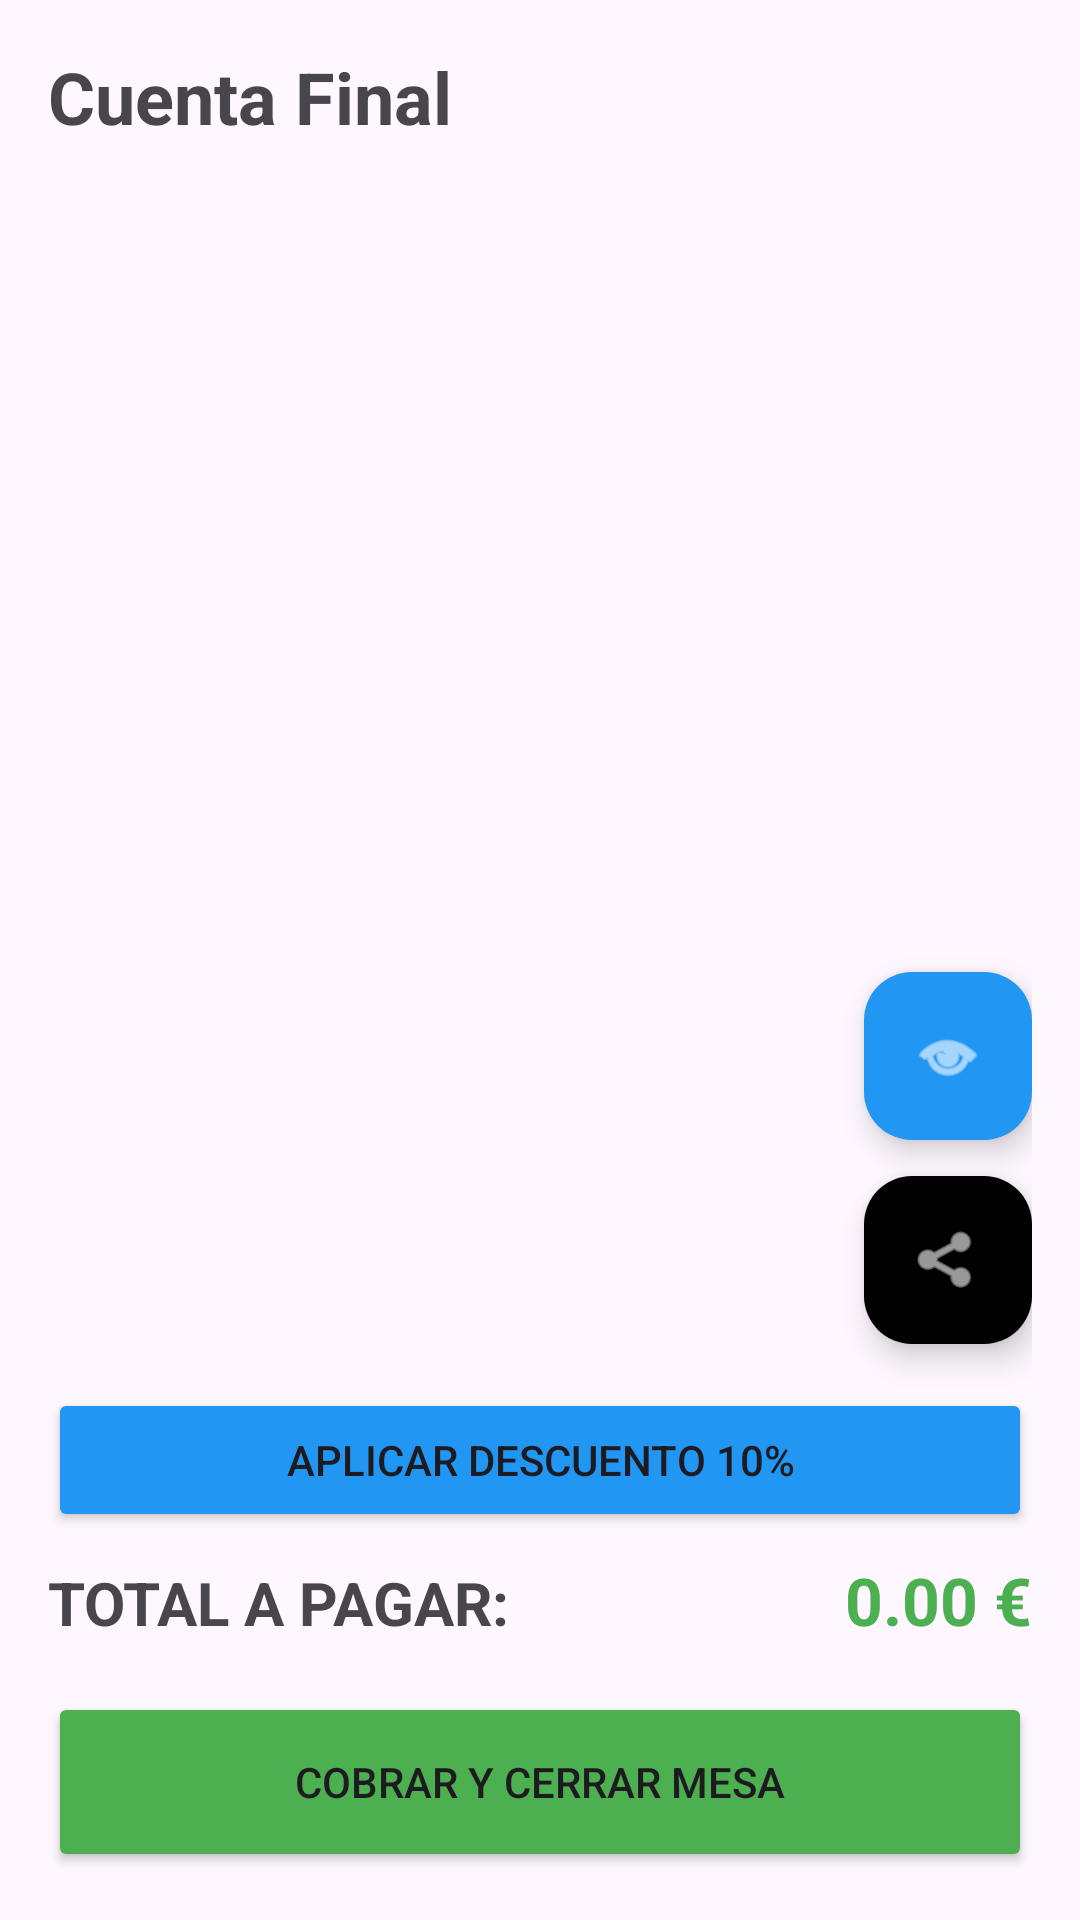

Screen size 1080w x 1920h. Icon name, then its center in pixels as (x=x, y=y):
share: (x=948, y=1260)
view: (x=948, y=1056)
